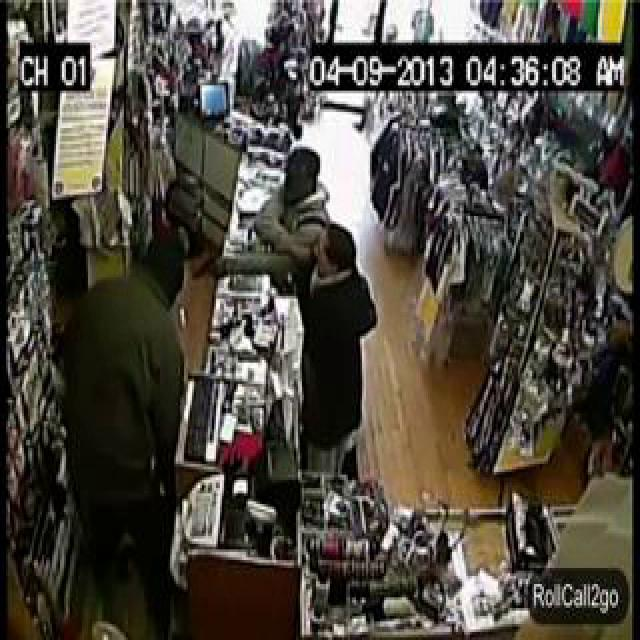robbery: (139, 44, 437, 571)
